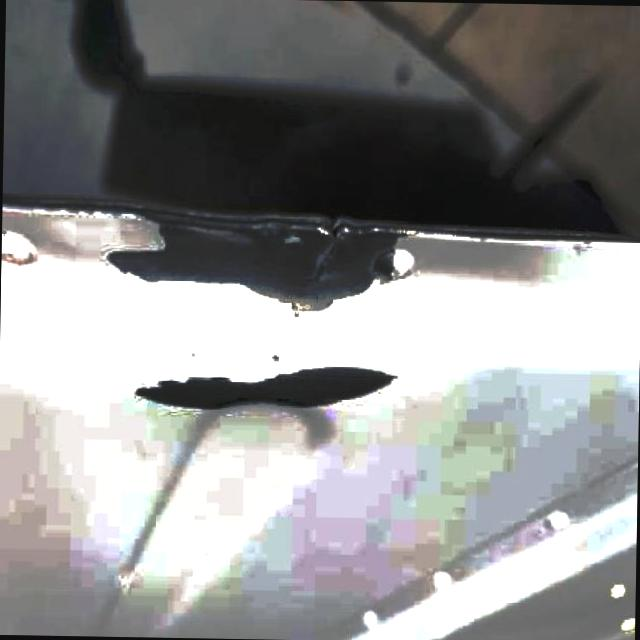crack: (308, 232, 340, 290)
